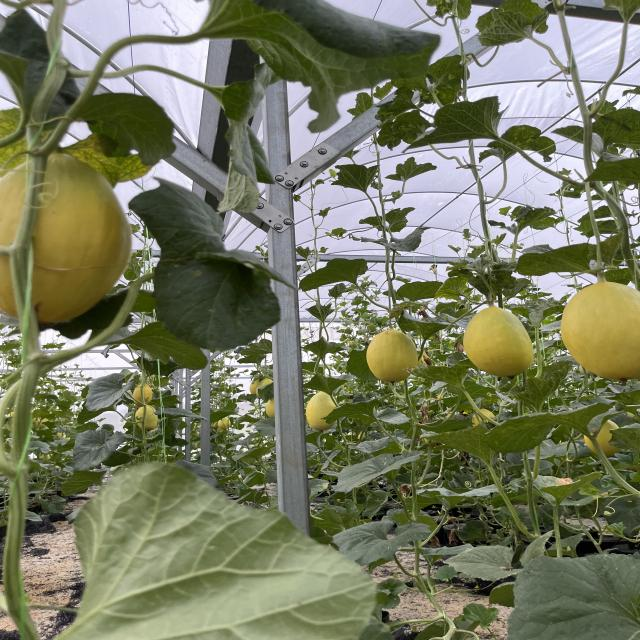CMV: (590, 106, 640, 152)
SLCV: (517, 362, 573, 411), (476, 10, 544, 46), (479, 128, 554, 160), (405, 362, 477, 387)
alternaria leaf blight: (532, 472, 602, 506)
downy mildew: (429, 427, 511, 460), (452, 546, 519, 580), (394, 279, 449, 303)
healthy: (186, 2, 439, 111), (130, 186, 282, 351), (506, 554, 639, 640), (218, 79, 279, 218), (408, 97, 506, 148), (118, 322, 209, 372), (334, 520, 431, 566), (333, 451, 425, 492), (299, 257, 370, 294), (84, 370, 141, 412), (74, 427, 128, 470), (588, 156, 640, 186), (334, 166, 384, 190), (383, 230, 428, 254), (329, 402, 386, 420), (306, 376, 349, 394)
